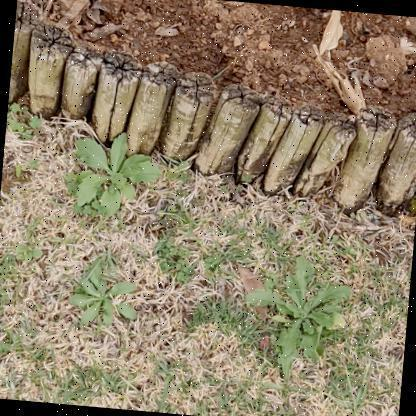Weeds: (239, 249, 357, 382), (68, 127, 166, 225), (67, 259, 143, 332), (11, 243, 44, 264)
